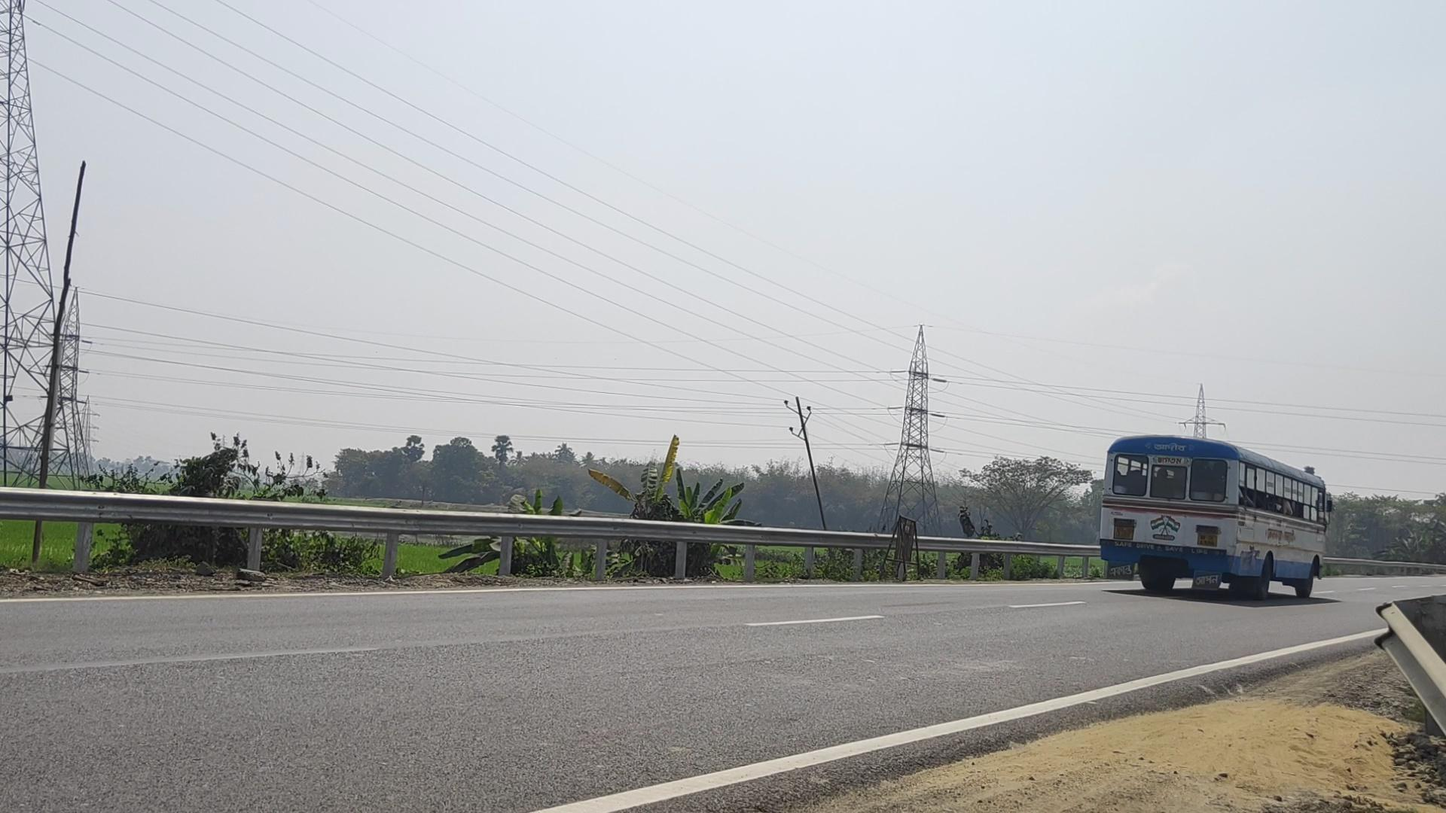Bus: (1100, 434, 1332, 601)
